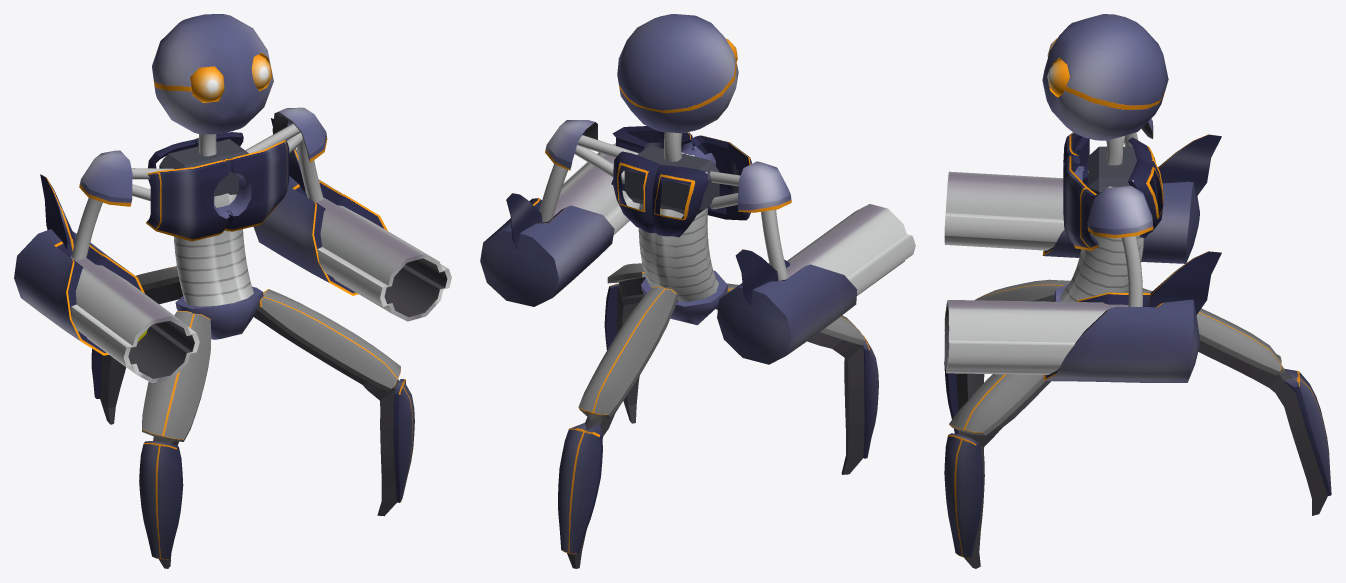
File: Turret (1).FBX
3 views of the same model, side by side, from view 1: azimuth 30°, elevation 25°; view 2: azimuth 150°, elevation 25°; view 3: azimuth 270°, elevation 25° (orthographic). The views are drawn at different scales.
Parts seen in each view (by area): view 1: Cylinder004, Plane002, Box007, Box008; view 2: Cylinder004, Plane002, Box008, Box007; view 3: Cylinder004, Plane002, Box007, Box008.
Part boxes in pixels (<box>): Cylinder004: <box>14,107,451,383</box>; Plane002: <box>71,14,323,339</box>; Box007: <box>139,289,414,568</box>; Box008: <box>91,266,183,424</box>; Cylinder004: <box>480,120,915,364</box>; Plane002: <box>539,14,788,325</box>; Box008: <box>558,286,678,568</box>; Box007: <box>604,263,878,474</box>; Cylinder004: <box>944,118,1221,382</box>; Plane002: <box>1042,14,1168,306</box>; Box007: <box>944,279,1070,568</box>; Box008: <box>1143,288,1331,515</box>.
Size of the model in its own units: 127 by 177 by 126.
Materials: 3 (3 with a texture image).
